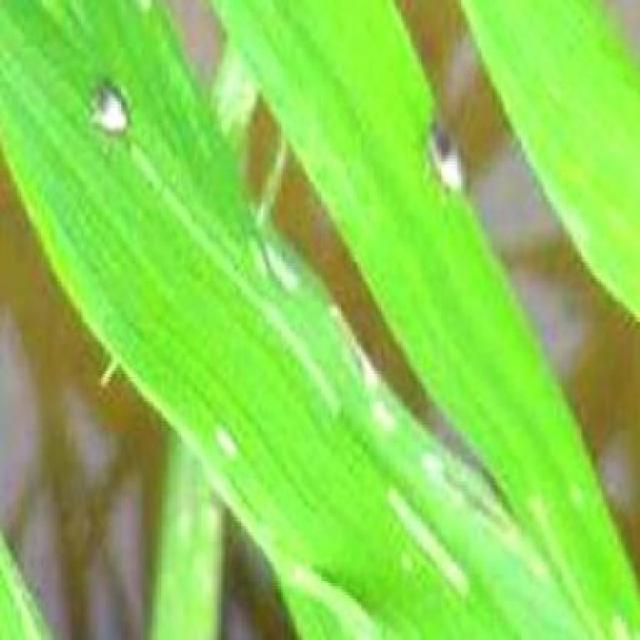rice-bug: (423, 124, 474, 194), (93, 82, 135, 138)
